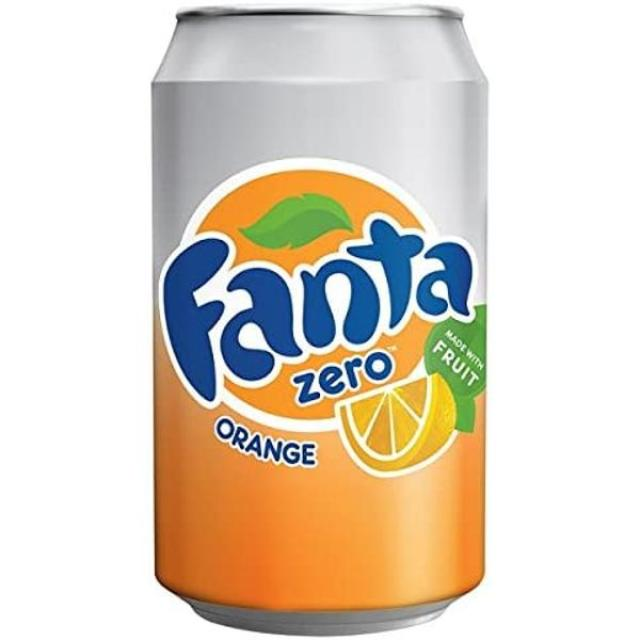fanta: (148, 0, 494, 633)
